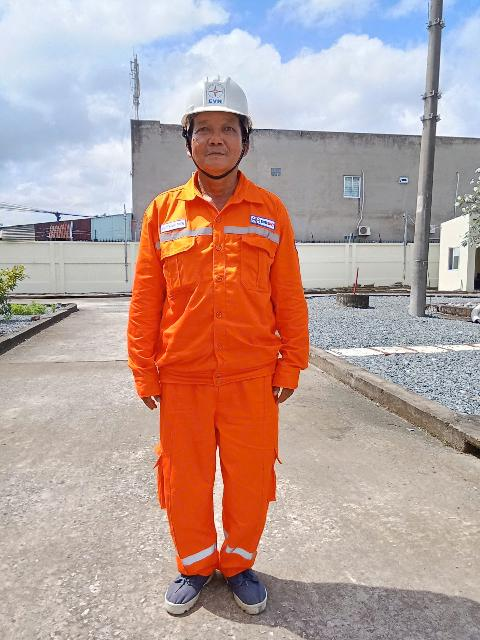helmet: (164, 63, 265, 137)
shoes: (155, 556, 222, 621), (220, 551, 283, 619)
